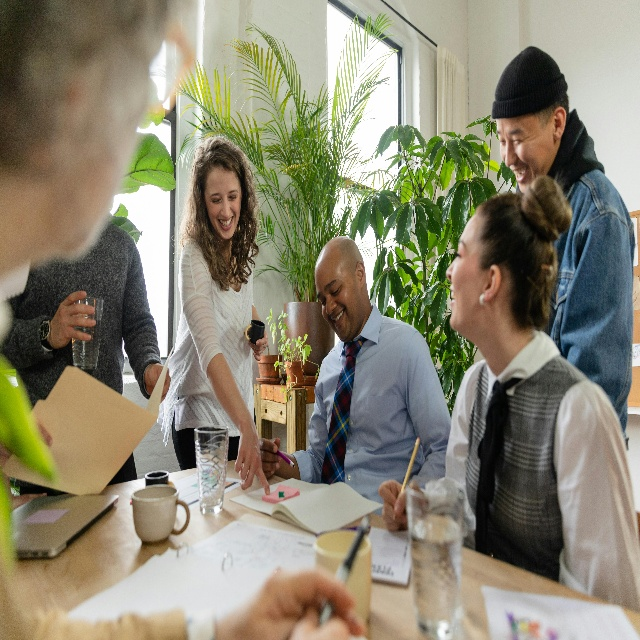Gafas: (131, 8, 207, 118)
Sin_guantes: (229, 565, 364, 640), (47, 287, 97, 349), (234, 428, 271, 495), (378, 477, 420, 532), (144, 362, 171, 403), (258, 434, 283, 478), (243, 327, 268, 362)
